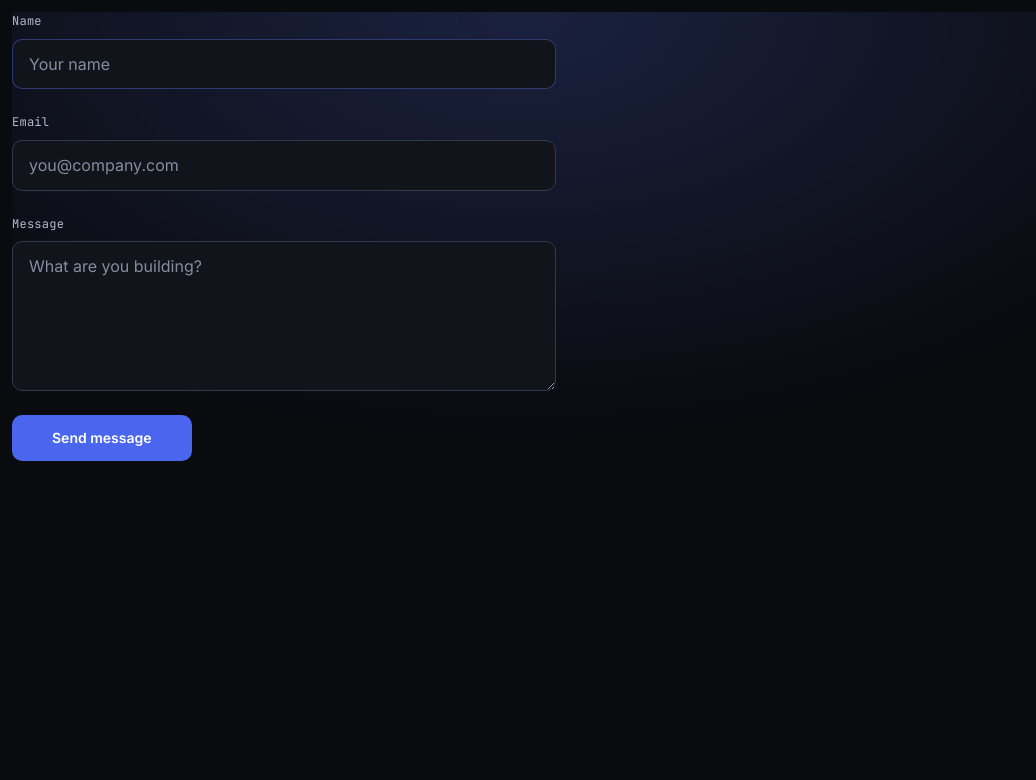
Test: ContactForm › does not submit while any field is invalid
The width and height of the screenshot is (1036, 780).
Click the button "Send message" at {"x": 102, "y": 438}, box [12,415,192,461]
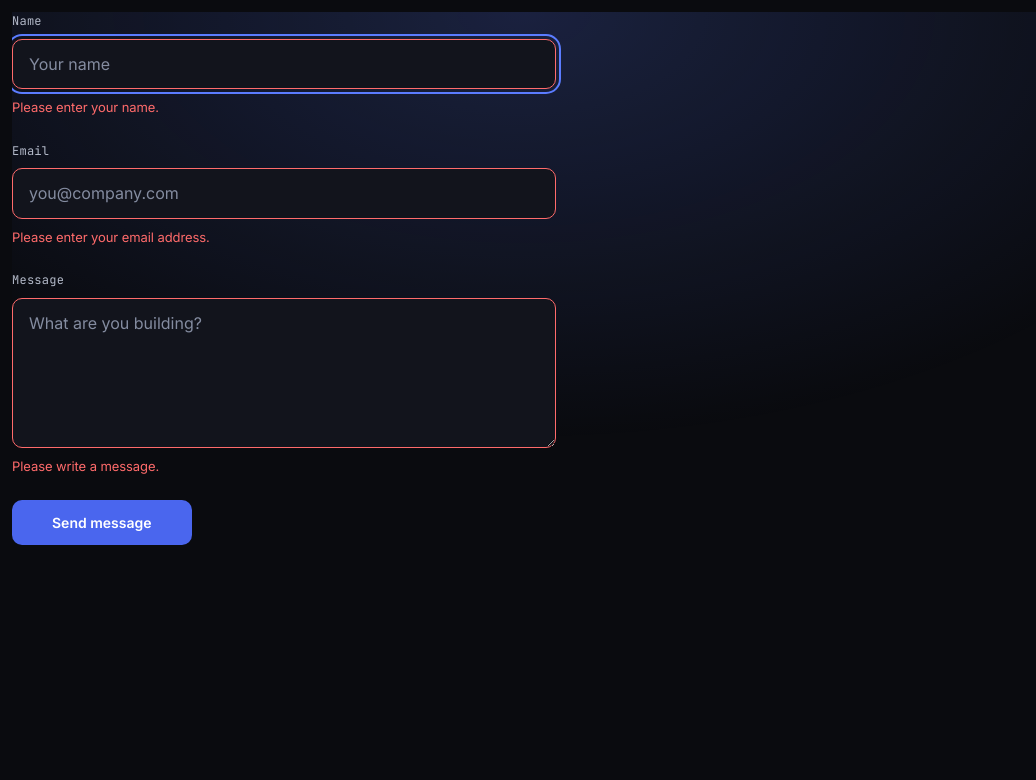
Expected: the text "Please enter your name." is shown, [12,99,159,115]
